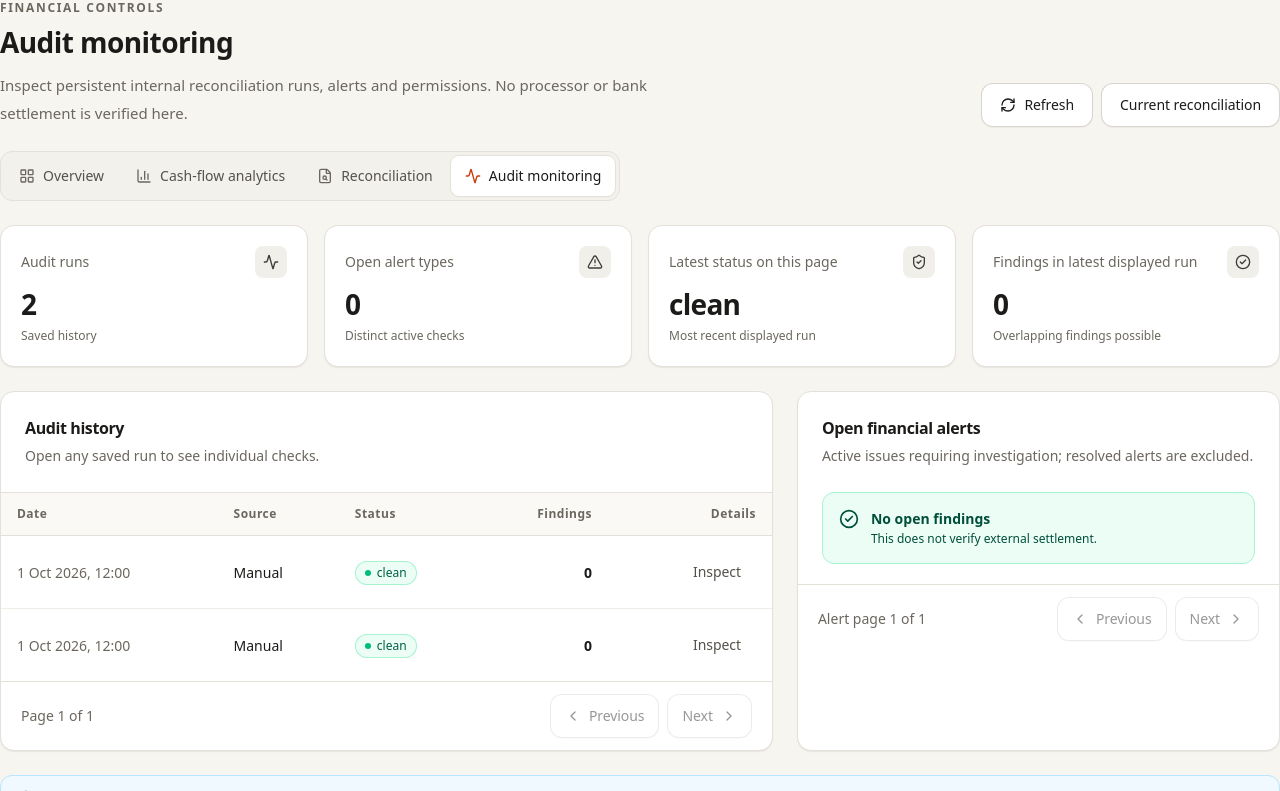
Scenario: financial audit detail inspection › can retry a failed inspection of the same run
This screenshot has width=1280, height=791.
What coordinates should you click on to do the following:
click the button with aria-label "Inspect audit 1"
I would click on:
 (717, 572)
Its box is left=678, top=550, right=756, bottom=594.
(page scrolled)
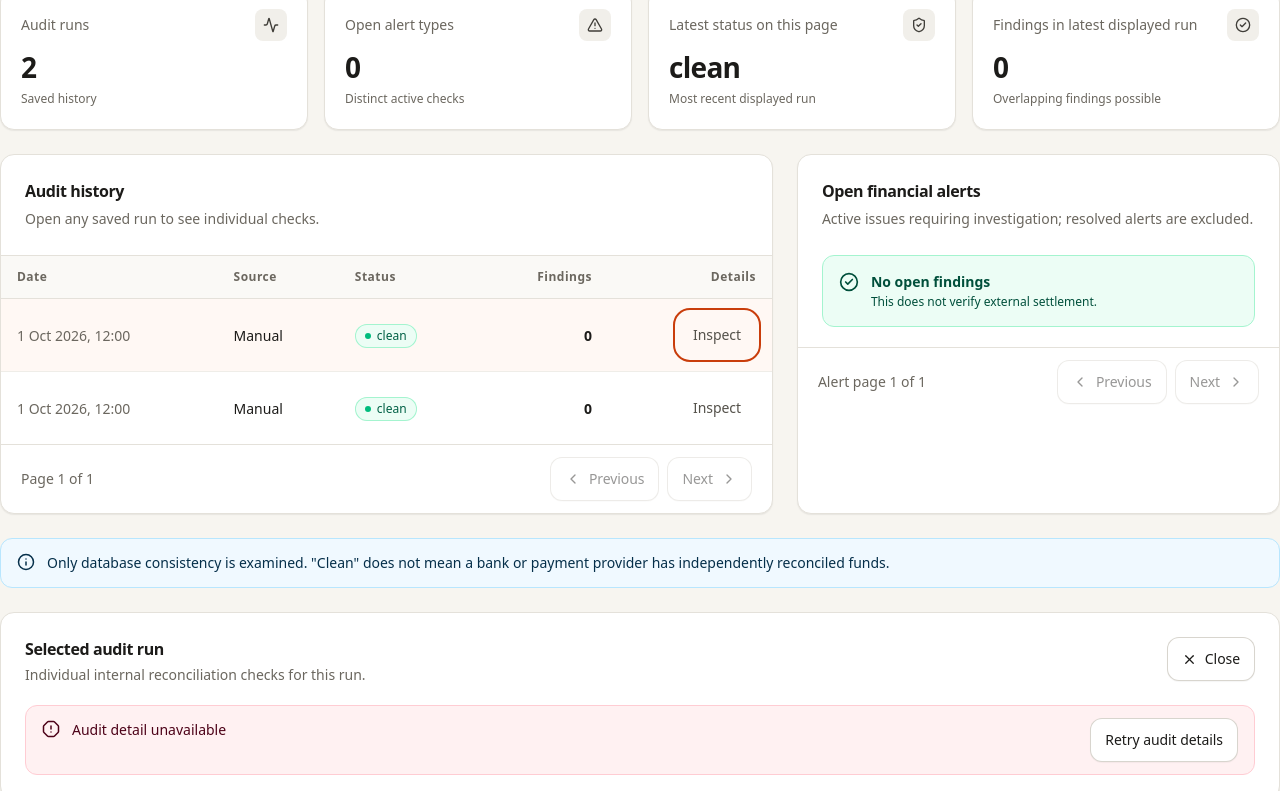
Result: the text "Audit detail unavailable" is shown at left=72, top=720, right=226, bottom=739
What coordinates should you click on to do the following:
click the button "Retry audit details"
I would click on:
 (1164, 740)
Its box is left=1090, top=718, right=1238, bottom=762.
(page scrolled)
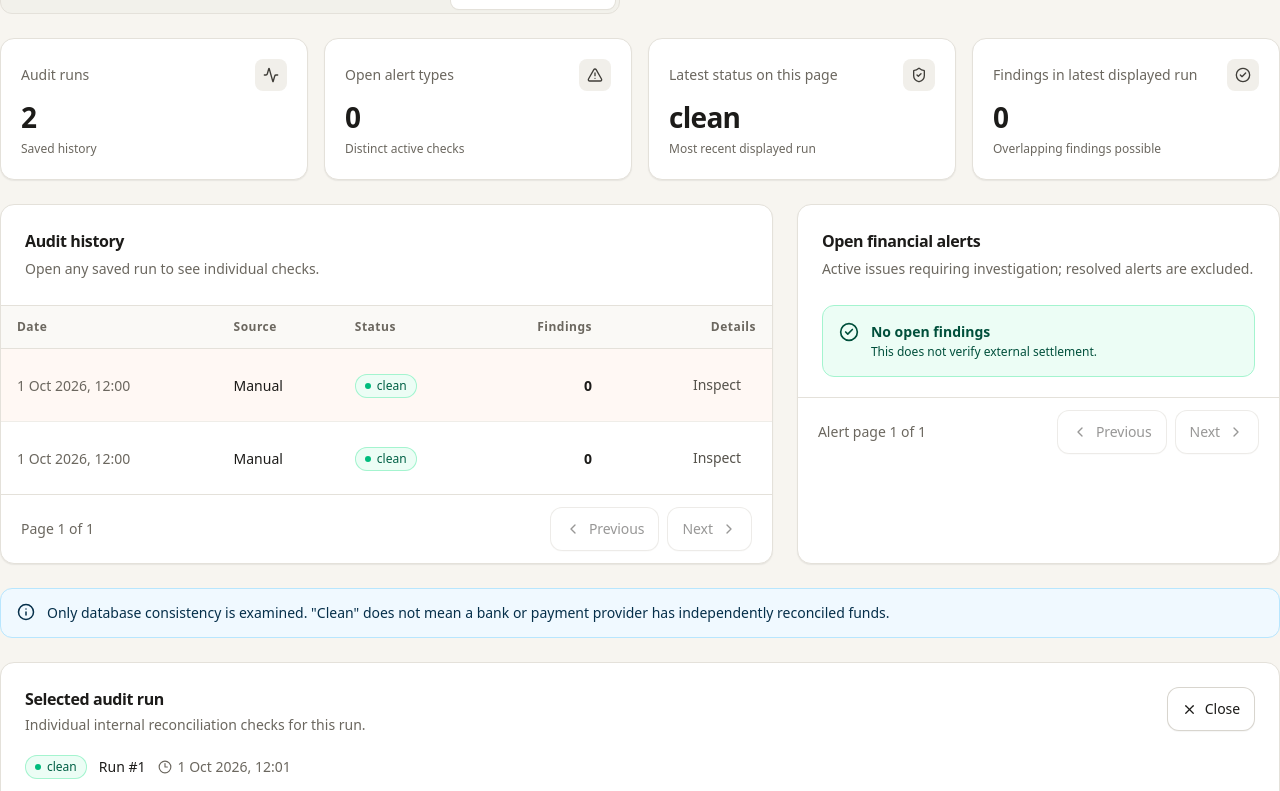
Result: the text "Run #1" is shown at left=99, top=757, right=146, bottom=777
